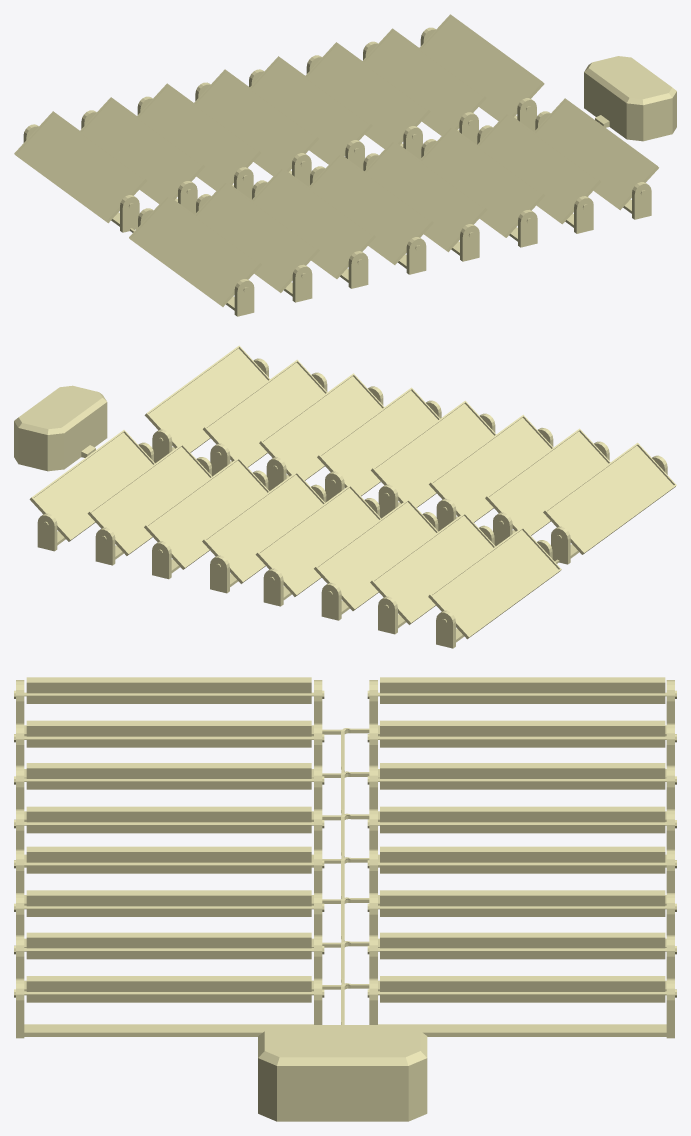
Rendered from solar_panel-beta.fbx.
3 views of the same model, one above another, from view 1: azimuth 30°, elevation 25°; view 2: azimuth 150°, elevation 25°; view 3: azimuth 270°, elevation 25° (orthographic). The views are drawn at different scales.
Parts seen in each view (by area): view 1: sp1, connector1.006, sp3, sp2; view 2: sp1, connector1.006, sp3, sp2; view 3: sp1, sp2, connector1.006, sp3.
Part boxes in pixels (bbox=[...]): sp1: bbox=[363, 14, 676, 233]; connector1.006: bbox=[14, 97, 319, 316]; sp3: bbox=[137, 69, 433, 288]; sp2: bbox=[249, 42, 545, 261]; sp1: bbox=[14, 345, 327, 565]; connector1.006: bbox=[370, 428, 676, 648]; sp3: bbox=[255, 400, 553, 620]; sp2: bbox=[144, 373, 441, 593]; sp1: bbox=[14, 932, 676, 1121]; sp2: bbox=[14, 846, 676, 984]; connector1.006: bbox=[14, 677, 676, 815]; sp3: bbox=[14, 763, 676, 899].
Size of the model in its own units: 2136 by 173 by 1482.
